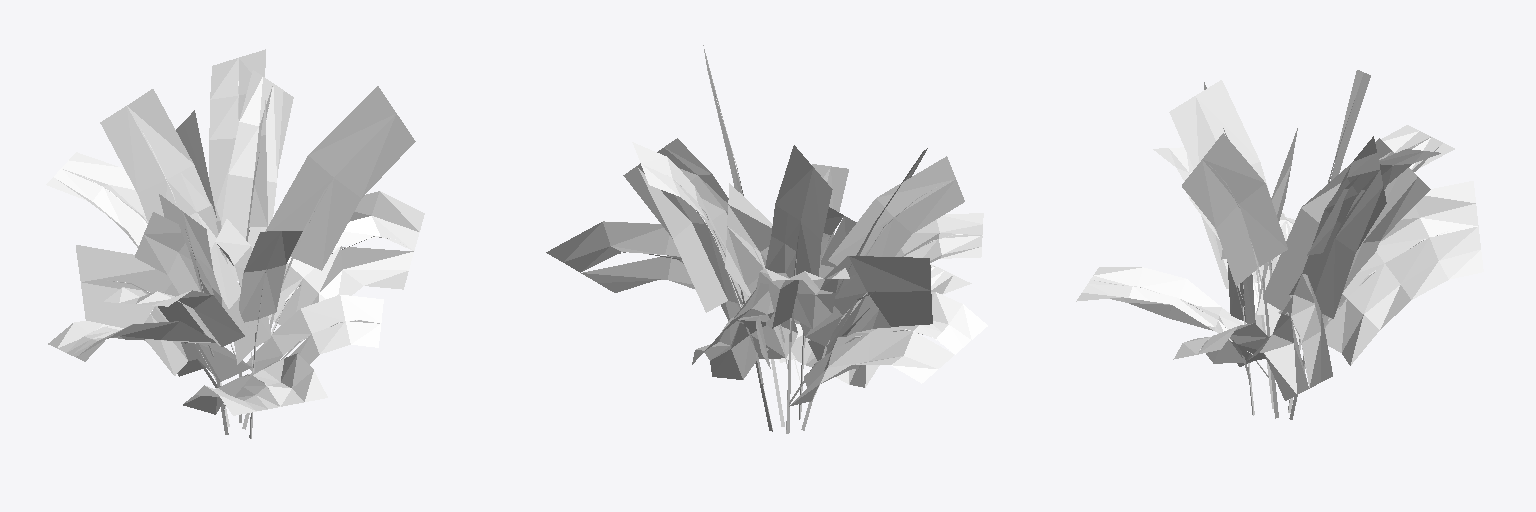
Rendered from Parlour_Palm_Model_0.obj.
The picture shows the model from 3 angles: view 1: azimuth 30°, elevation 25°; view 2: azimuth 150°, elevation 25°; view 3: azimuth 270°, elevation 25°; orthographic projection.
Visible parts, largest first — view 1: Foliage; view 2: Foliage; view 3: Foliage.
Part boxes in pixels (x1,y1,x2,y2): Foliage: (46,49,424,438); Foliage: (546,45,987,433); Foliage: (1076,70,1483,419).
Bounding box in the file's own units: 2.43 × 2 × 2.19.